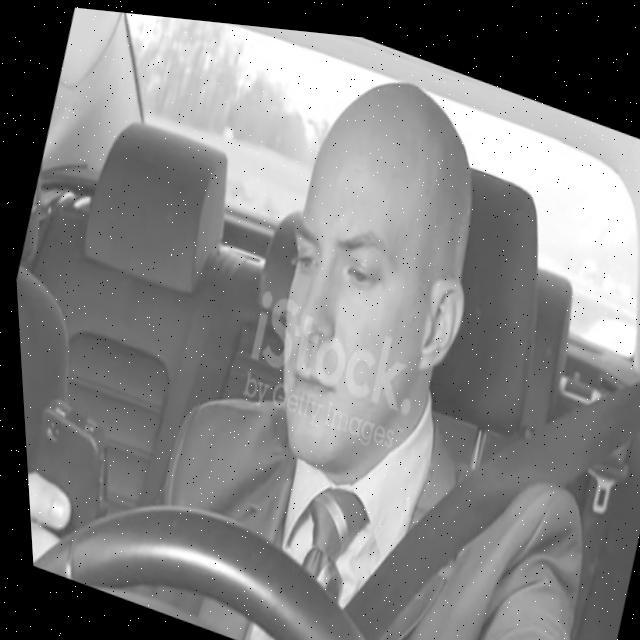PhoneCall: (18, 389, 122, 548)
